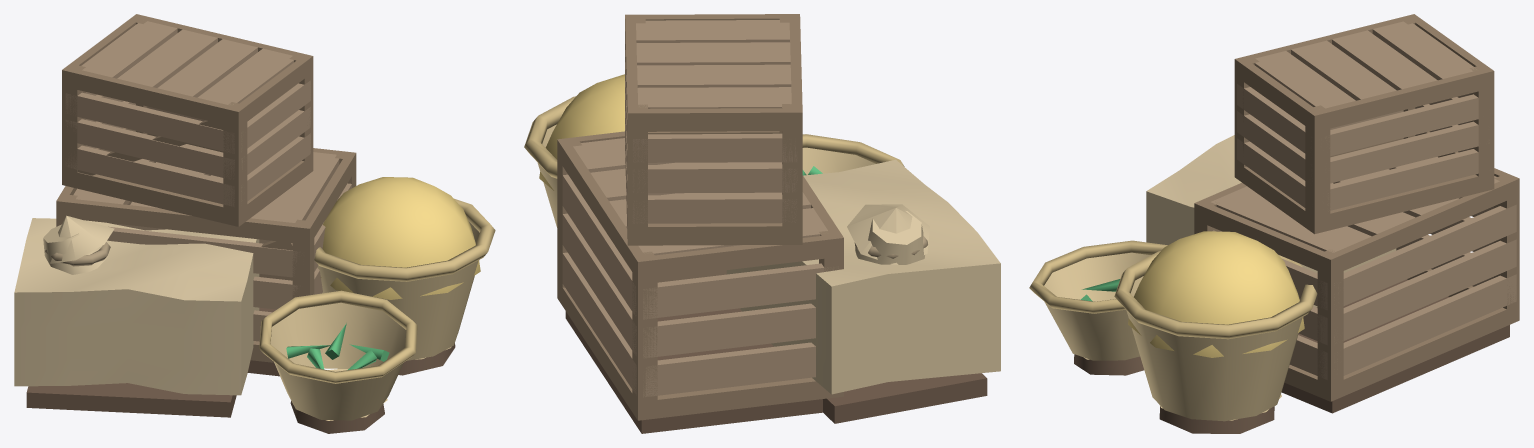
Rendered from south_indian_village_market_storage_cluster.glb.
3 renders of one model, left to right at view 1: azimuth 30°, elevation 25°; view 2: azimuth 150°, elevation 25°; view 3: azimuth 270°, elevation 25°, orthographic. The views are drawn at different scales.
Parts seen in each view (by area): view 1: Crate_2_Medium_Stacked, Bulging_Jute_Grain_Sack, Basket_1_Flared_Cane_Koodai, Basket_2_Shallow_Chili_Bowl, Crate_1_Large_Base; view 2: Crate_1_Large_Base, Crate_2_Medium_Stacked, Bulging_Jute_Grain_Sack, Basket_1_Flared_Cane_Koodai, Modular_Village_Storage_Cluster, Basket_2_Shallow_Chili_Bowl; view 3: Crate_2_Medium_Stacked, Crate_1_Large_Base, Basket_1_Flared_Cane_Koodai, Basket_2_Shallow_Chili_Bowl, Bulging_Jute_Grain_Sack, Modular_Village_Storage_Cluster.
Part boxes in pixels (bbox=[...]): Crate_2_Medium_Stacked: bbox=[62, 14, 313, 226]; Bulging_Jute_Grain_Sack: bbox=[14, 215, 259, 417]; Basket_1_Flared_Cane_Koodai: bbox=[314, 177, 495, 375]; Basket_2_Shallow_Chili_Bowl: bbox=[259, 290, 417, 433]; Crate_1_Large_Base: bbox=[56, 148, 356, 362]; Crate_1_Large_Base: bbox=[557, 131, 843, 420]; Crate_2_Medium_Stacked: bbox=[625, 14, 802, 245]; Bulging_Jute_Grain_Sack: bbox=[726, 159, 1000, 423]; Basket_1_Flared_Cane_Koodai: bbox=[524, 74, 624, 227]; Modular_Village_Storage_Cluster: bbox=[565, 308, 822, 433]; Basket_2_Shallow_Chili_Bowl: bbox=[802, 134, 904, 175]; Crate_2_Medium_Stacked: bbox=[1234, 14, 1494, 234]; Crate_1_Large_Base: bbox=[1194, 156, 1519, 401]; Basket_1_Flared_Cane_Koodai: bbox=[1114, 231, 1317, 433]; Basket_2_Shallow_Chili_Bowl: bbox=[1029, 240, 1167, 375]; Bulging_Jute_Grain_Sack: bbox=[1146, 135, 1396, 307]; Modular_Village_Storage_Cluster: bbox=[1281, 279, 1509, 413].
Size of the model in its own units: 1.19 by 0.7135 by 1.13.
